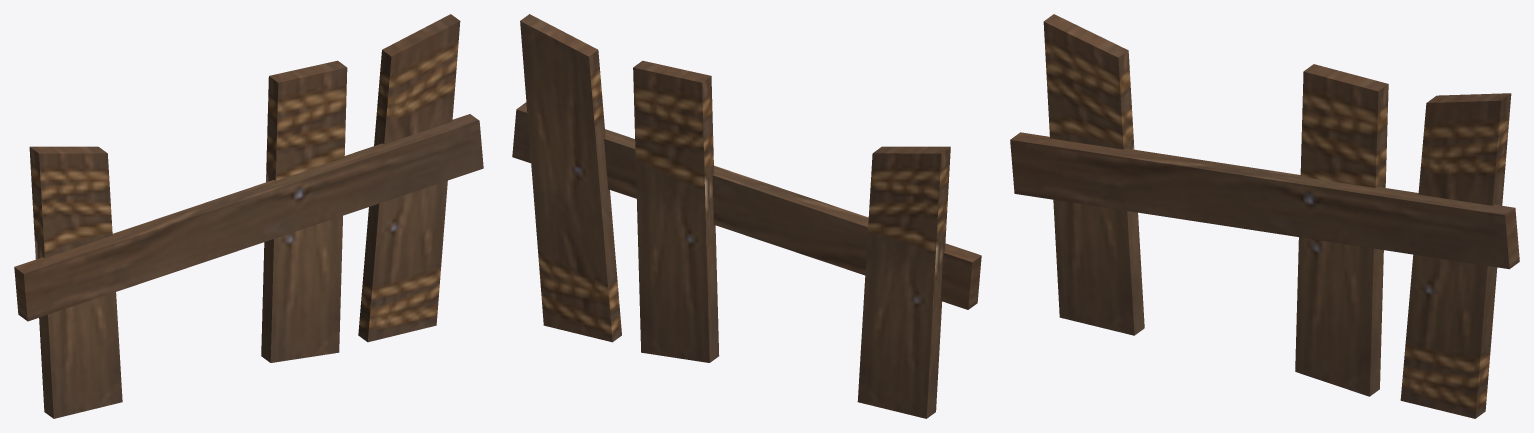
Rendered from ice_fence.FBX.
3 renders of one model, left to right at view 1: azimuth 30°, elevation 25°; view 2: azimuth 150°, elevation 25°; view 3: azimuth 330°, elevation 25°, orthographic. The views are drawn at different scales.
Parts seen in each view (by area): view 1: Object036; view 2: Object036; view 3: Object036.
Boxes of the visible parts, x1,y1,x2,y2 form: Object036: (14, 14, 483, 418); Object036: (512, 14, 981, 418); Object036: (1010, 14, 1519, 418).
Size of the model in its own units: 50.5 by 3.28 by 31.7.
